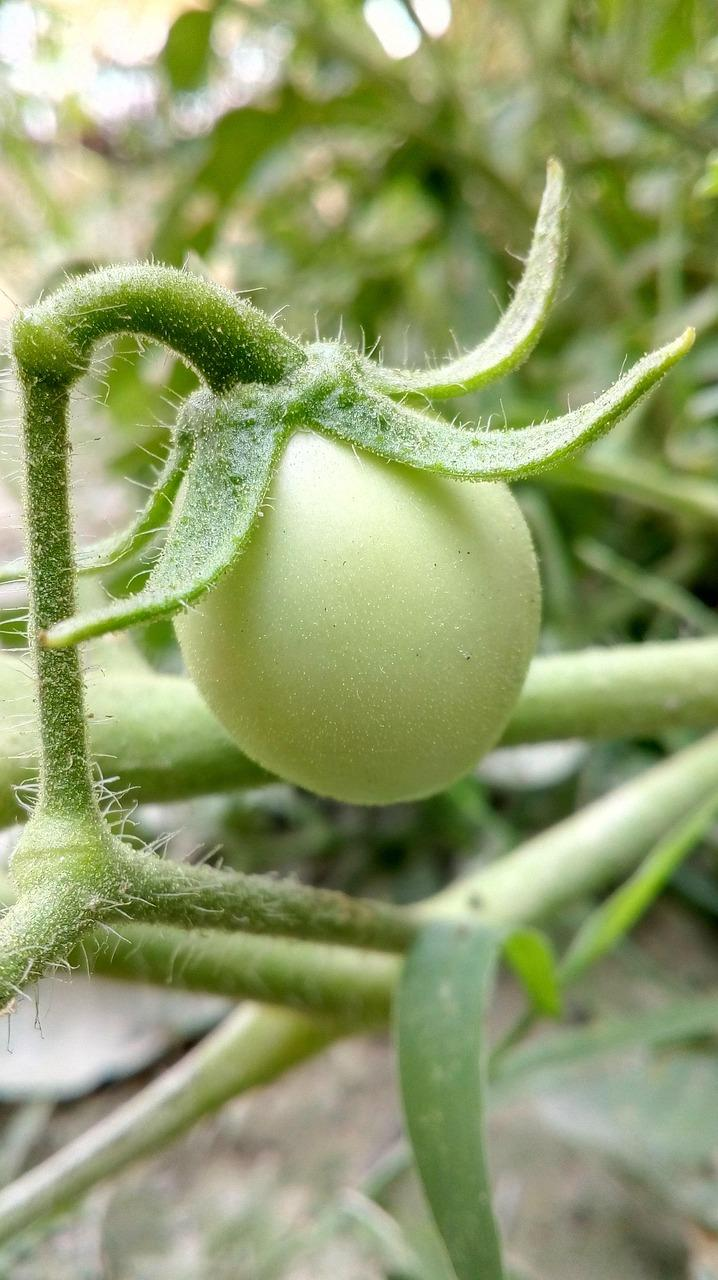Muda: (94, 336, 587, 816)
